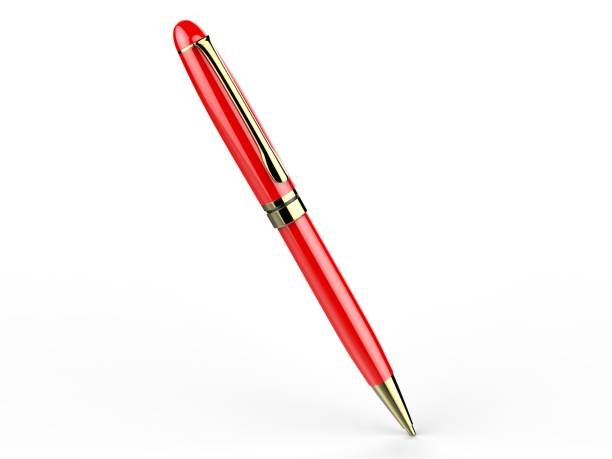pen: (171, 13, 422, 441)
